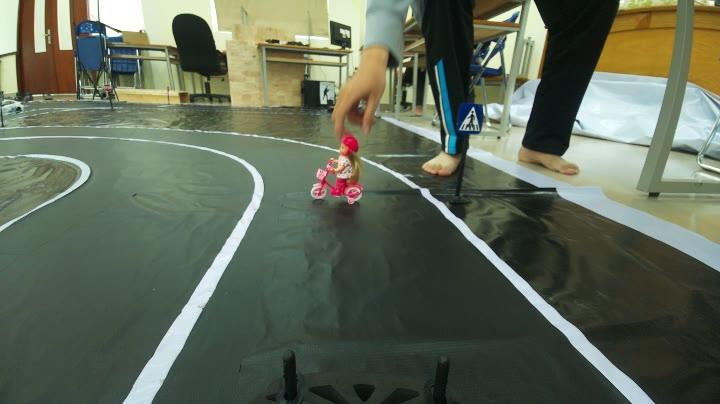crosswalk: (450, 101, 488, 140)
pedestrian: (290, 136, 373, 208)
